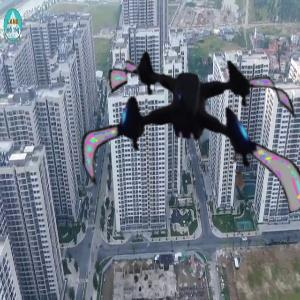drone: (74, 16, 300, 243)
